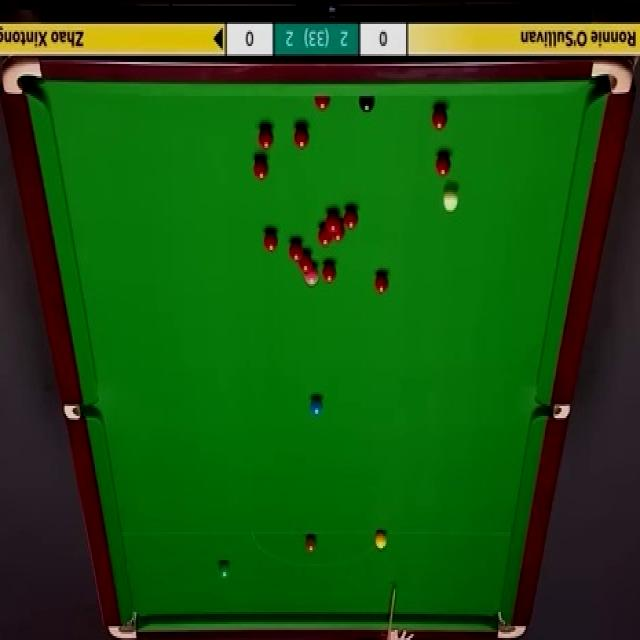black-ball: (358, 96, 376, 115)
blue-ball: (310, 398, 324, 415)
brown-ball: (304, 530, 317, 552)
green-ball: (218, 565, 230, 581)
pink-ball: (304, 266, 318, 286)
red-ball: (316, 221, 333, 247), (253, 154, 269, 181), (294, 124, 309, 152), (434, 154, 451, 178), (432, 107, 449, 131), (343, 206, 360, 230), (375, 270, 388, 294), (326, 210, 340, 232), (258, 127, 272, 149), (290, 238, 303, 260), (331, 222, 345, 241), (299, 254, 313, 273), (264, 232, 278, 250), (324, 264, 337, 283), (314, 97, 330, 112)
white-ball: (442, 189, 459, 211)
yellow-ball: (375, 530, 387, 550)
